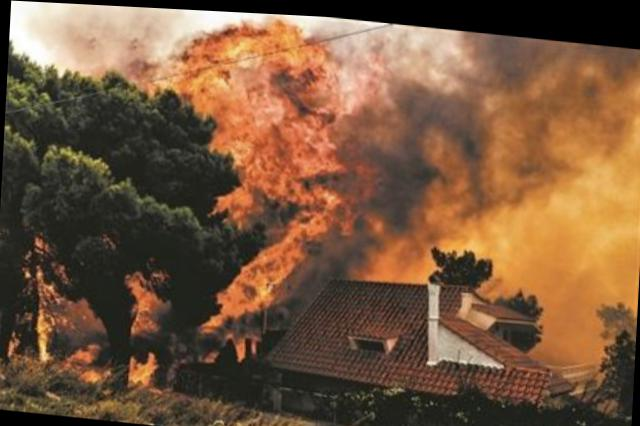fire: (9, 0, 401, 409)
